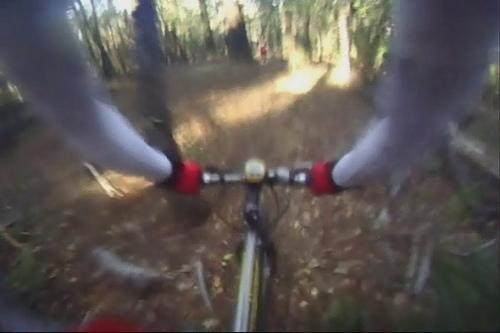bicycle: (202, 158, 314, 333)
